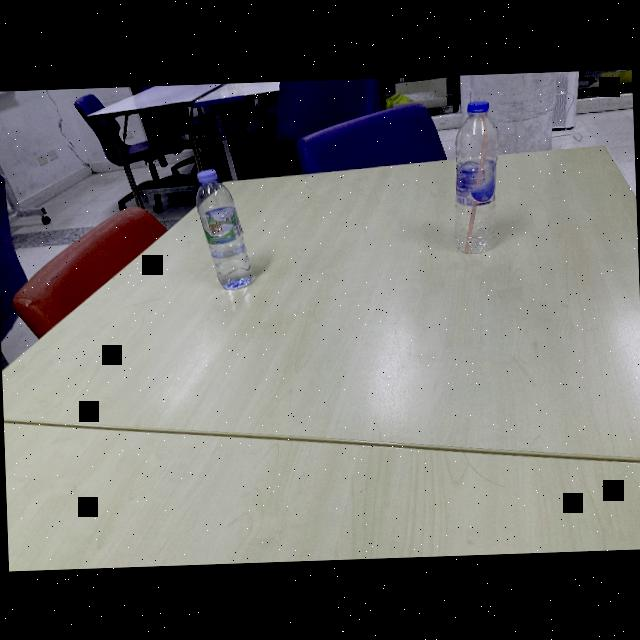plastic_bottle: (446, 96, 504, 256), (194, 164, 251, 293)
